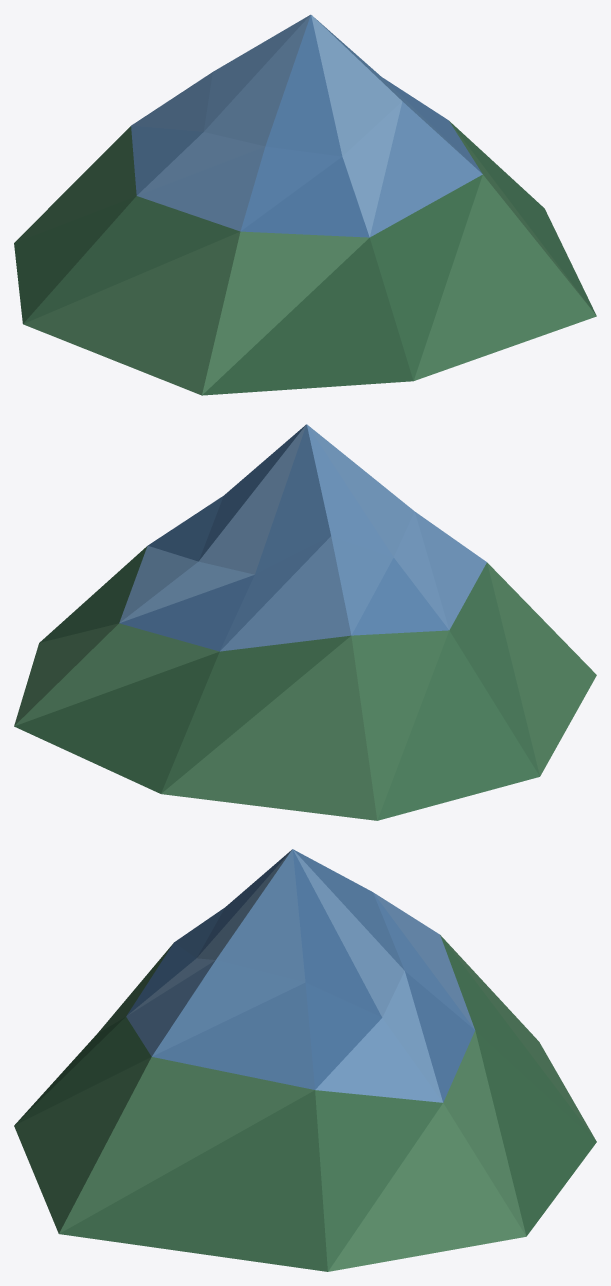
File: mountain-blue.glb
3 views of the same model, one above another, from view 1: azimuth 30°, elevation 25°; view 2: azimuth 150°, elevation 25°; view 3: azimuth 270°, elevation 25° (orthographic). The views are drawn at different scales.
Parts seen in each view (by area): view 1: mountain-blue; view 2: mountain-blue; view 3: mountain-blue.
Boxes of the visible parts, x1,y1,x2,y2 form: mountain-blue: (14, 14, 596, 395); mountain-blue: (14, 424, 596, 820); mountain-blue: (14, 849, 596, 1271).
Bounding box in the file's own units: 2 × 1 × 1.82.
